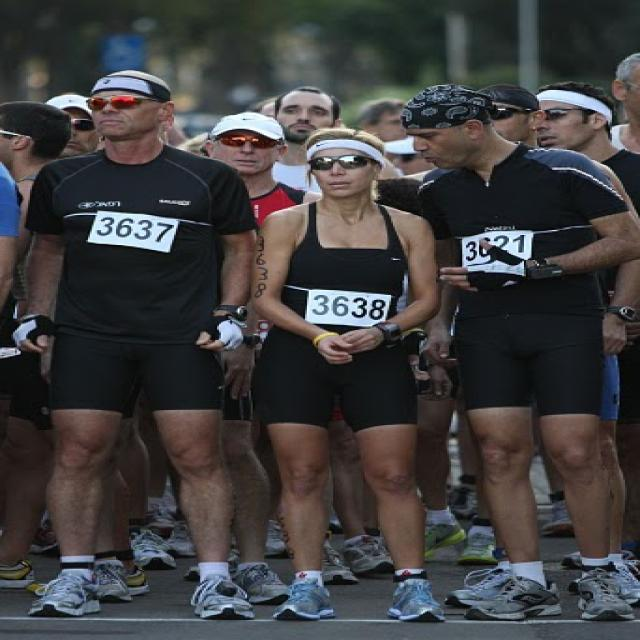Bib: (313, 293, 391, 326), (93, 216, 168, 247)
